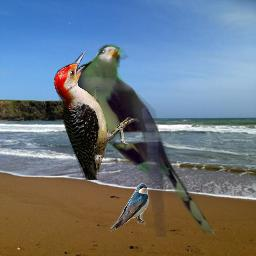Cuckoo: (74, 44, 223, 237)
Swallow: (109, 182, 150, 232)
Woodpecker: (54, 51, 139, 180)
